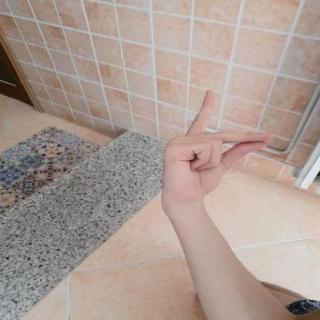TAA: (152, 85, 276, 208)
